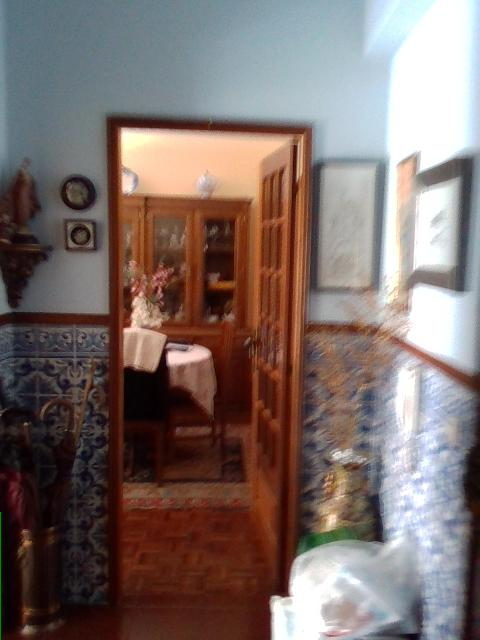open_door: (102, 114, 312, 599)
